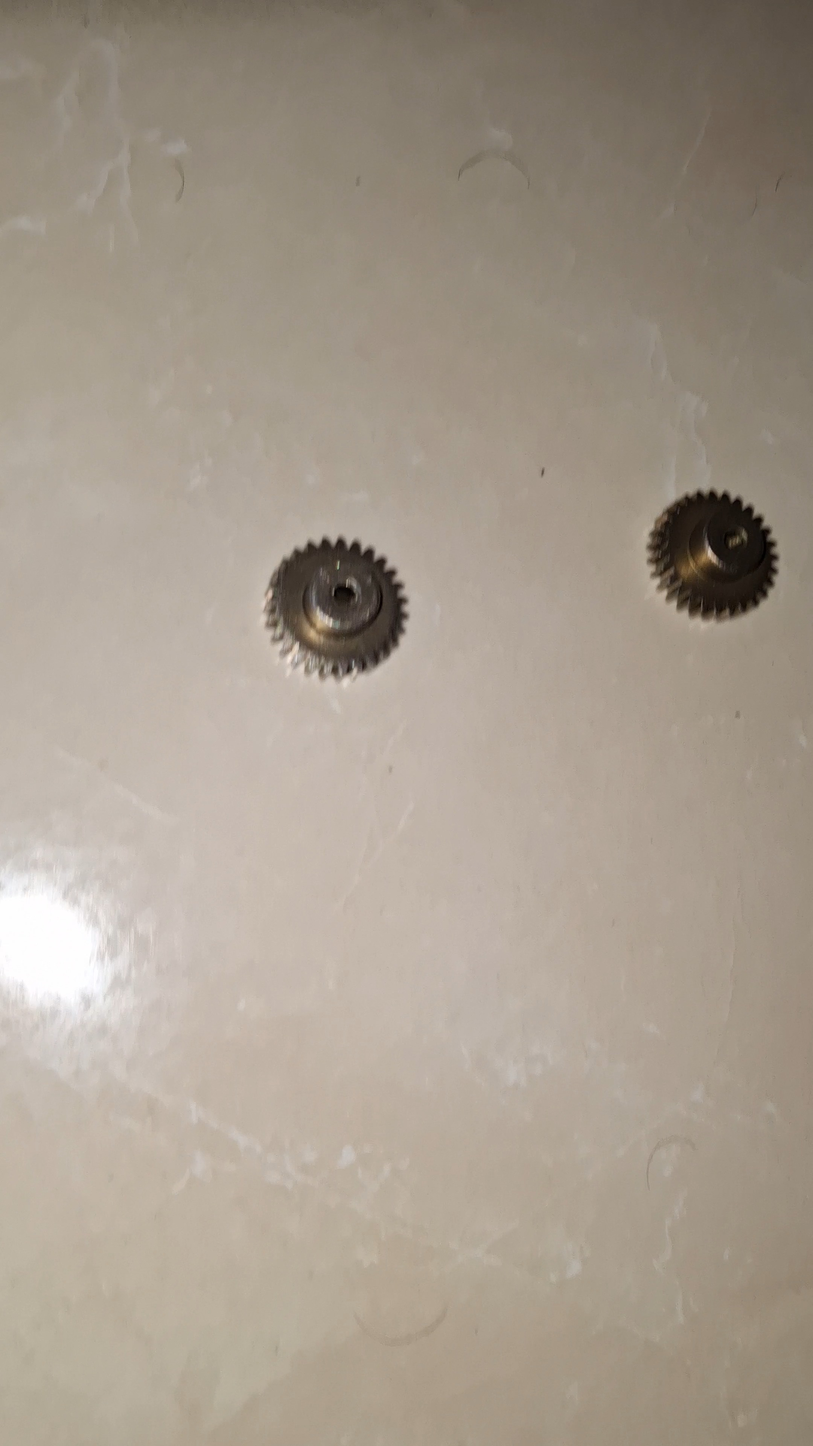spur gear: (265, 538, 405, 677), (649, 491, 776, 616)
